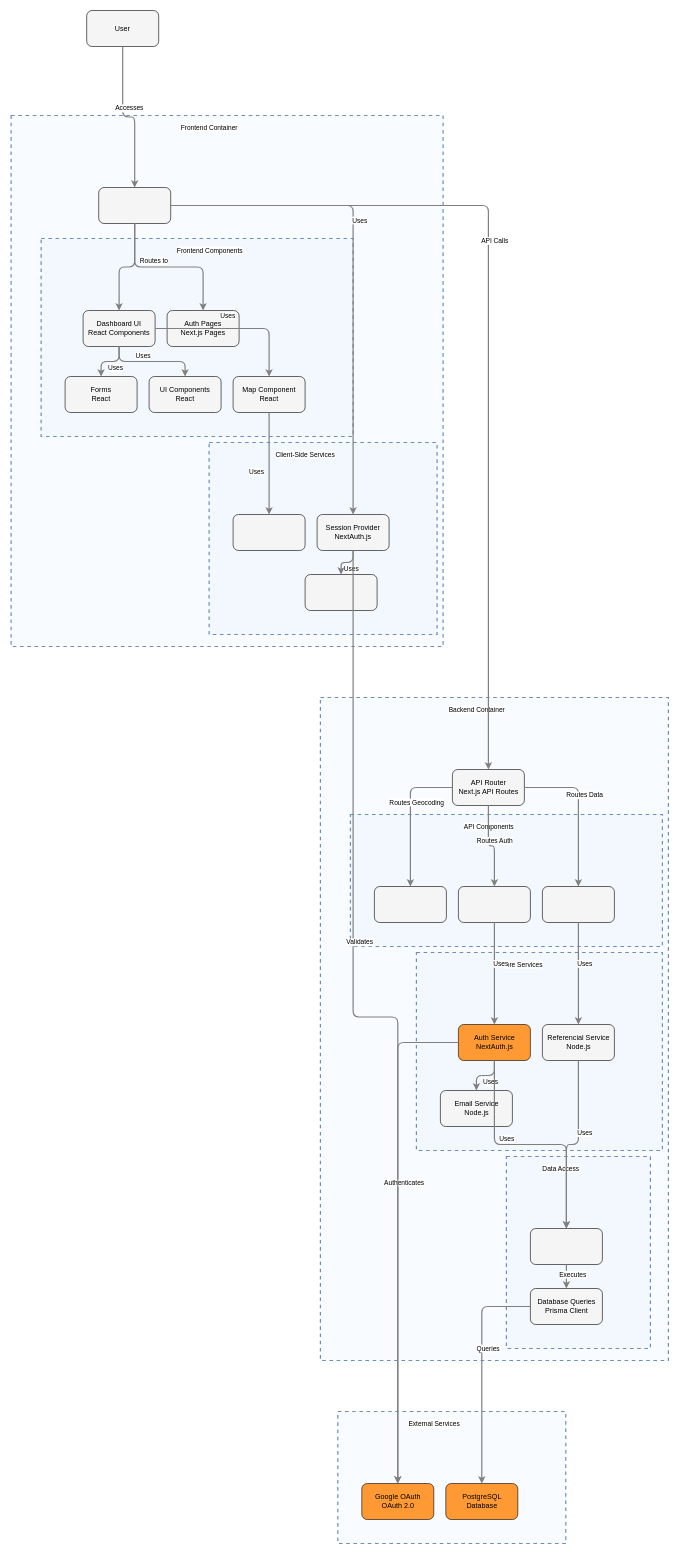
This 679x1555 diagram has some shape labels left out. The shapes that lost their labels are listed below. From the top down, each one's centre as x and y in pixels, then its label:
the point at 134,205: Next.js App Next.js 14
the point at 268,532: Map Service JavaScript
the point at 340,592: Auth Hooks React Hooks
the point at 410,904: Geocoding API Next.js API
the point at 494,904: Auth API NextAuth
the point at 578,904: Referencial API Next.js API
the point at 566,1246: Prisma ORM Prisma
